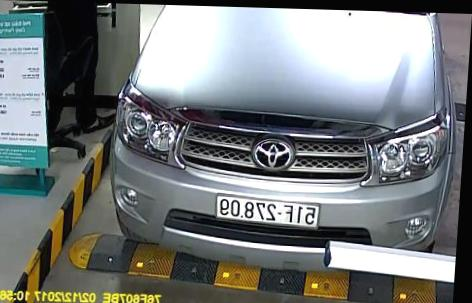License_Plate: (216, 198, 321, 224)
